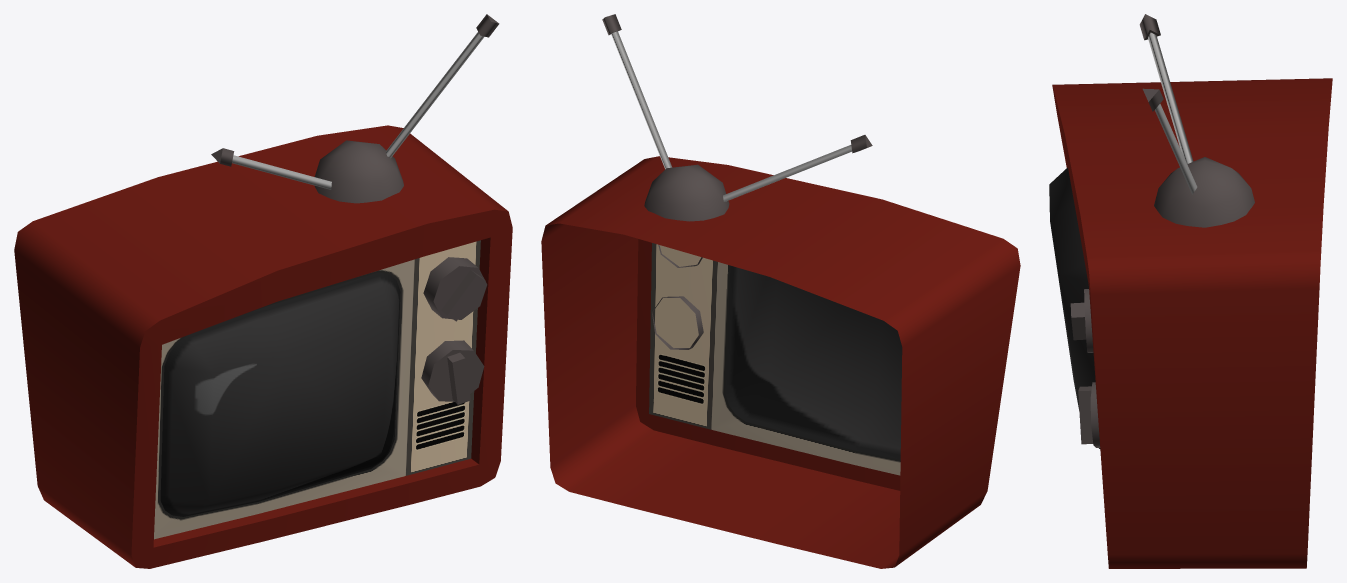
The picture shows the model from 3 angles, left to right: view 1: azimuth 30°, elevation 25°; view 2: azimuth 150°, elevation 25°; view 3: azimuth 270°, elevation 25°; orthographic projection. The views are drawn at different scales.
Parts seen in each view (by area): view 1: tv, tvScreen; view 2: tv, tvScreen; view 3: tv, tvScreen.
Part boxes in pixels (x1=…): tv: x1=14, y1=14, x2=512, y2=568; tvScreen: x1=160, y1=272, x2=400, y2=516; tv: x1=541, y1=14, x2=1020, y2=568; tvScreen: x1=725, y1=265, x2=902, y2=459; tv: x1=1052, y1=14, x2=1332, y2=568; tvScreen: x1=1049, y1=167, x2=1100, y2=448.
Bounding box in the file's own units: 4.88 × 5.41 × 2.71.
